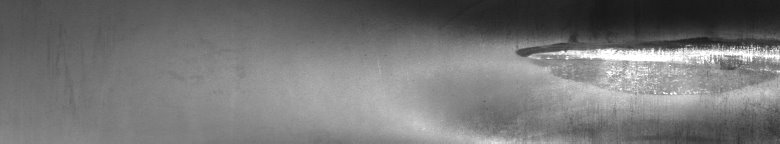ke: (460, 24, 776, 136)
